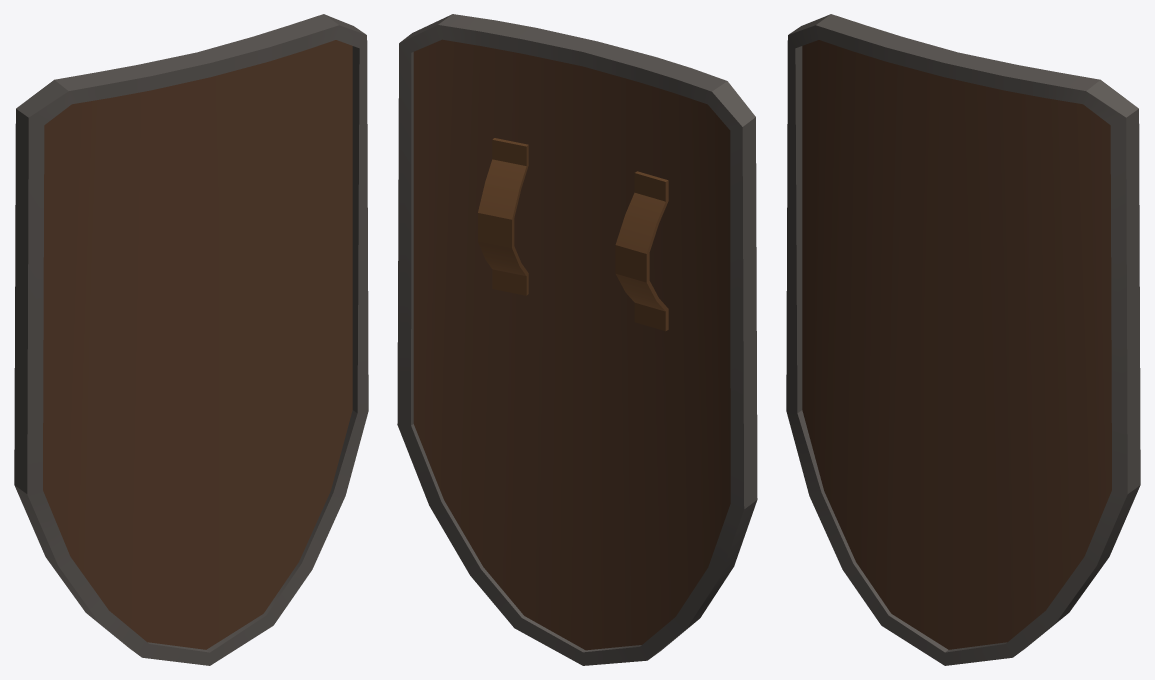
The model's file is Heater Shield_Brown.glb.
3 renders of one model, left to right at view 1: azimuth 30°, elevation 25°; view 2: azimuth 150°, elevation 25°; view 3: azimuth 330°, elevation 25°, orthographic.
Parts seen in each view (by area): view 1: Heater Shield_Brown; view 2: Heater Shield_Brown; view 3: Heater Shield_Brown.
Part boxes in pixels (x1,y1,x2,y2): Heater Shield_Brown: [14, 14, 368, 665]; Heater Shield_Brown: [397, 14, 757, 665]; Heater Shield_Brown: [786, 14, 1140, 665].
Bounding box in the file's own units: 0.4983 × 0.8428 × 0.0878.
Materials: 1 (1 with a texture image).
